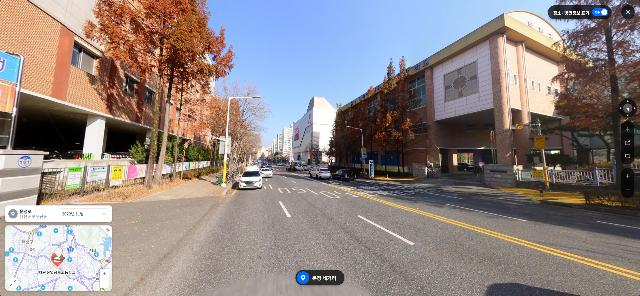other: (83, 0, 235, 189), (550, 0, 640, 168), (328, 56, 416, 177), (209, 79, 274, 183), (372, 56, 416, 177), (127, 132, 213, 182), (524, 118, 607, 168), (328, 118, 362, 174), (307, 139, 328, 167)
